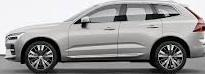SUV: (5, 1, 205, 73)
